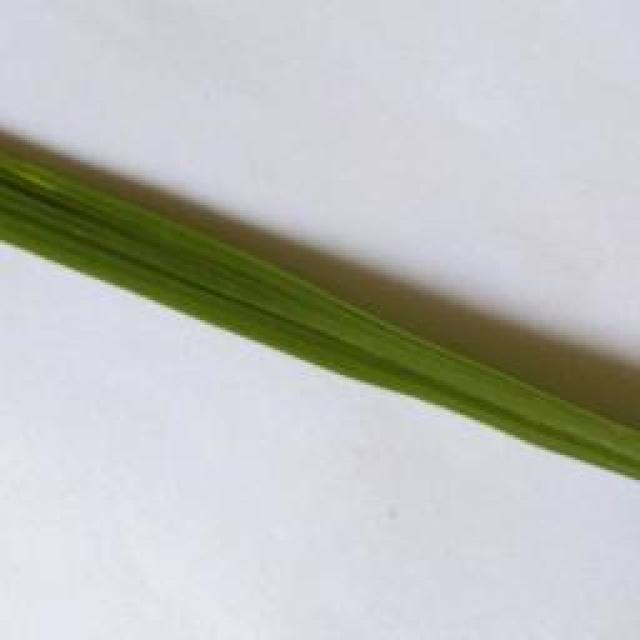Healthy-Plant: (0, 151, 640, 479)
